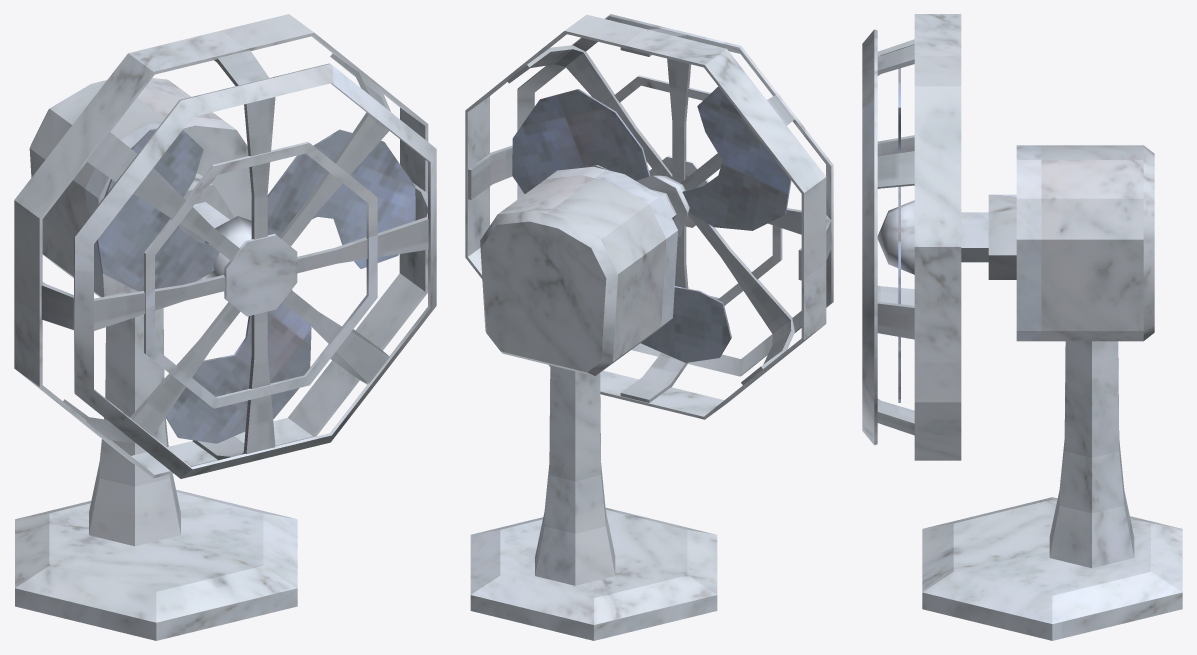
Rendered from SM_DeskFan.fbx.
3 renders of one model, left to right at view 1: azimuth 30°, elevation 25°; view 2: azimuth 150°, elevation 25°; view 3: azimuth 270°, elevation 25°, orthographic. The views are drawn at different scales.
Visible parts, largest first — view 1: SM_DeskFan; view 2: SM_DeskFan; view 3: SM_DeskFan.
Boxes of the visible parts, box(x1,y1,x2,y2) form: SM_DeskFan: box(14, 14, 436, 640); SM_DeskFan: box(465, 14, 833, 640); SM_DeskFan: box(862, 14, 1182, 640).
Size of the model in its own units: 50.7 by 71.57 by 39.3.
Materials: 3 (3 with a texture image).
